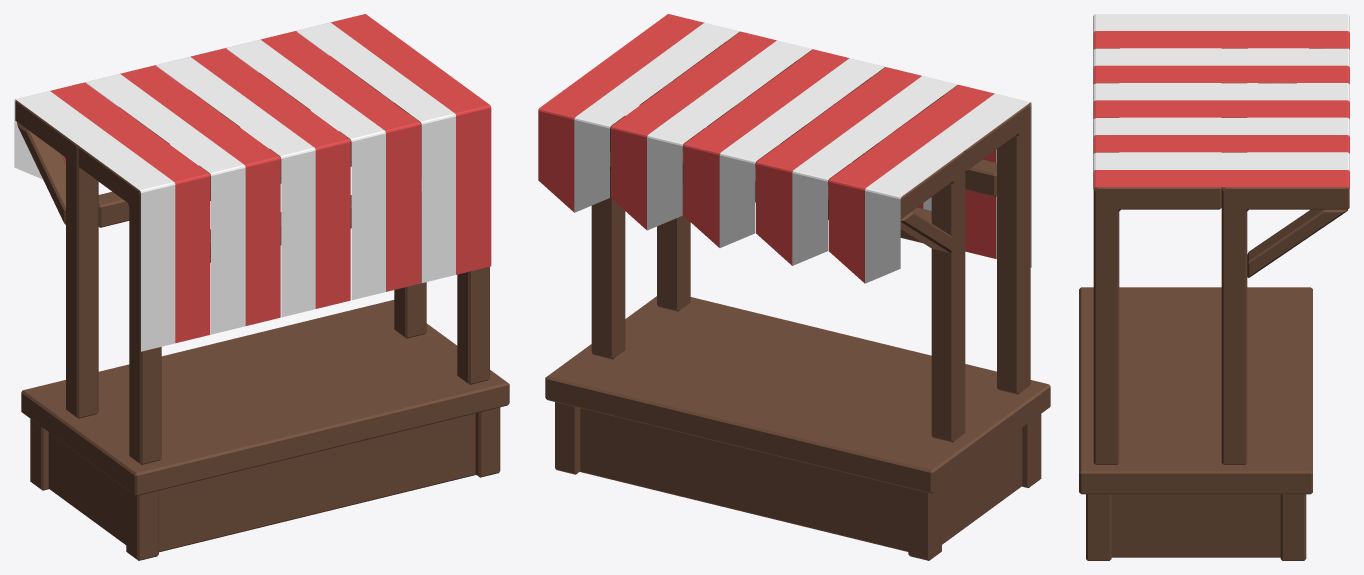
Rendered from Stall.fbx.
The picture shows the model from 3 angles, left to right: view 1: azimuth 30°, elevation 25°; view 2: azimuth 150°, elevation 25°; view 3: azimuth 270°, elevation 25°; orthographic projection. The views are drawn at different scales.
Parts seen in each view (by area): view 1: Stall_01; view 2: Stall_01; view 3: Stall_01.
Boxes of the visible parts, left/top/right/bottom form: Stall_01: left=14, top=14, right=509, bottom=560; Stall_01: left=538, top=14, right=1050, bottom=560; Stall_01: left=1079, top=14, right=1349, bottom=560.
Bounding box in the file's own units: 214 × 200 × 132.
